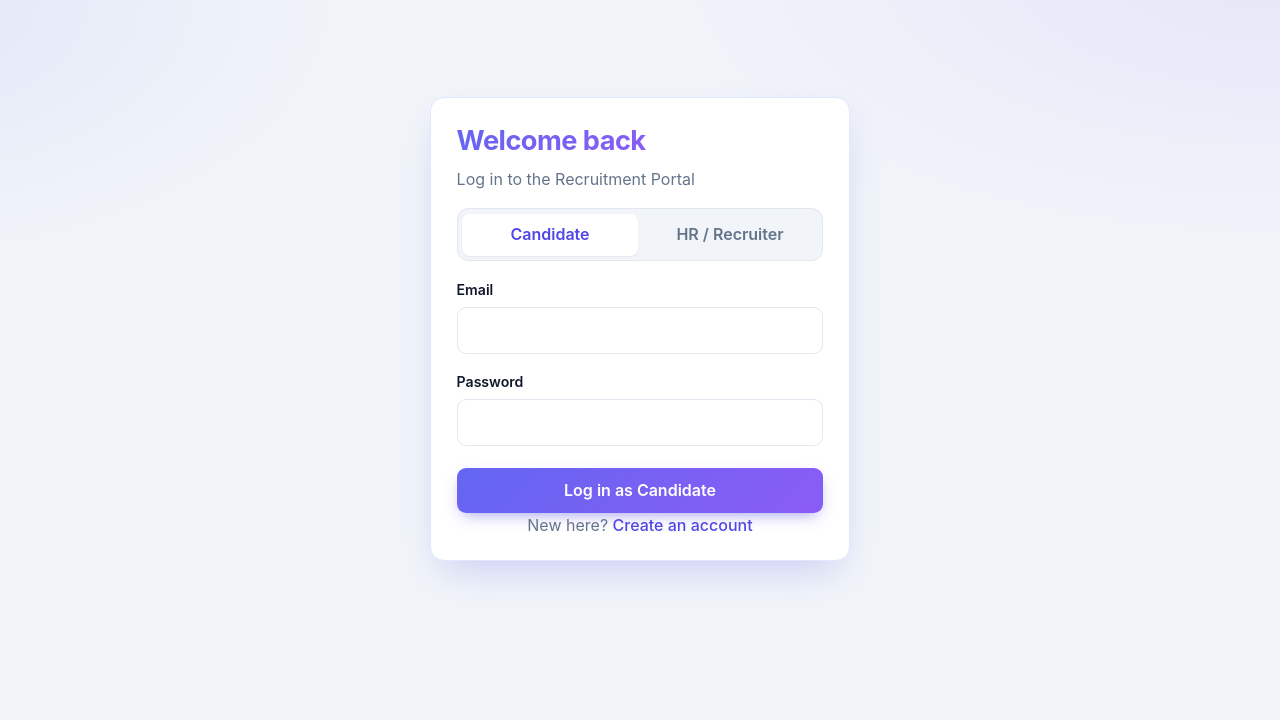
Test case: Login page › shows inline validation errors instead of submitting an empty form
Click the button "Log in as Candidate" at (640, 491), box [457,468,823,513]
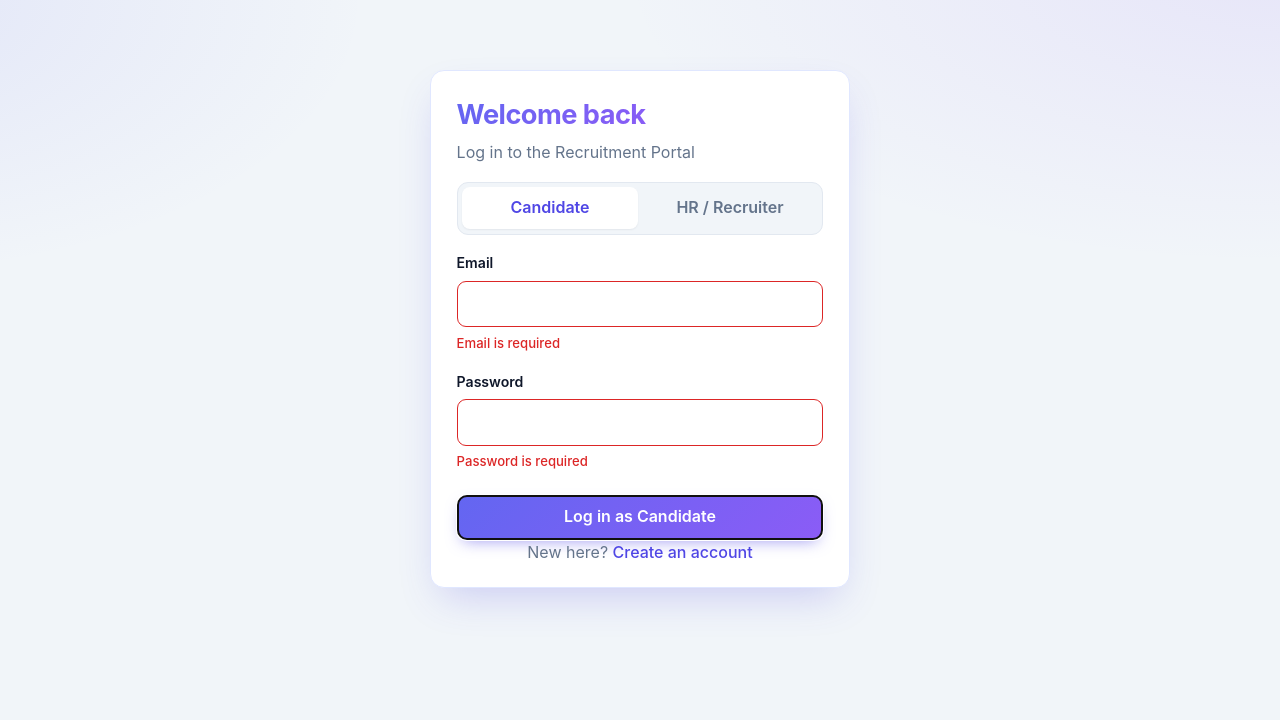
Check: the text "Email is required" is shown, box [457,335,560,351]
Check: the text "Password is required" is shown, box [457,453,588,469]
